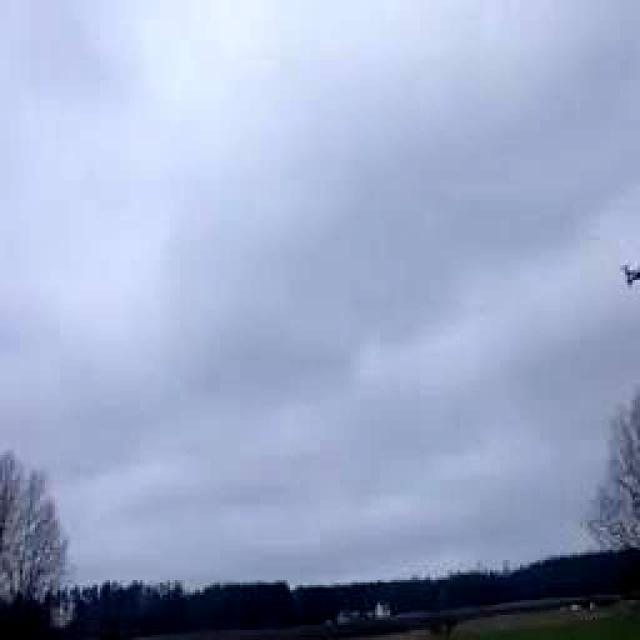bird: (599, 239, 640, 301)
